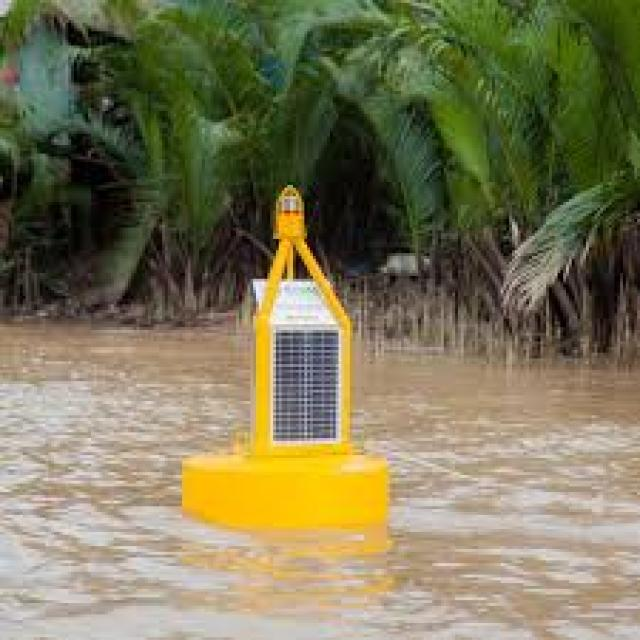buoy: (190, 164, 399, 547)
